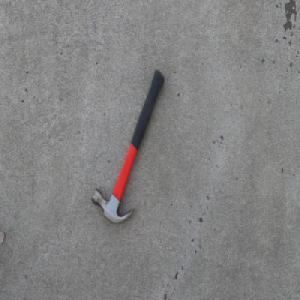Hammer: (91, 69, 164, 224)
